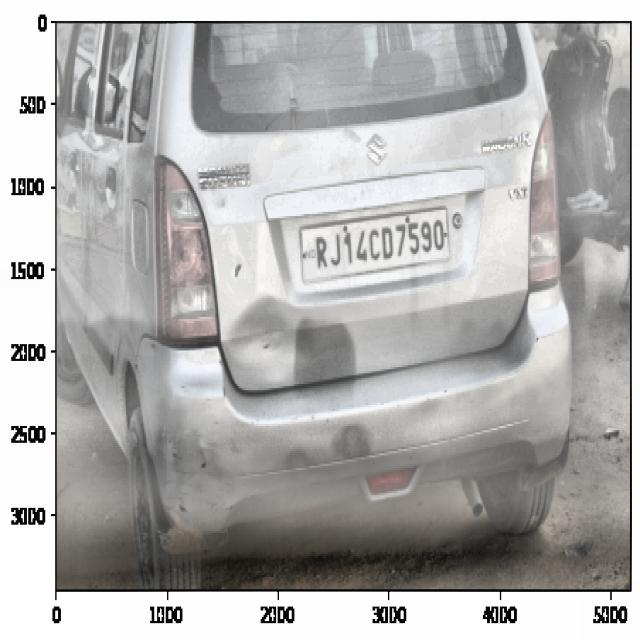license_plate: (313, 213, 452, 279)
